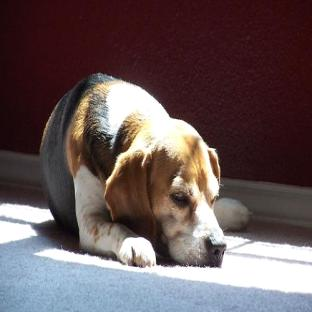Animal: (41, 73, 248, 266)
